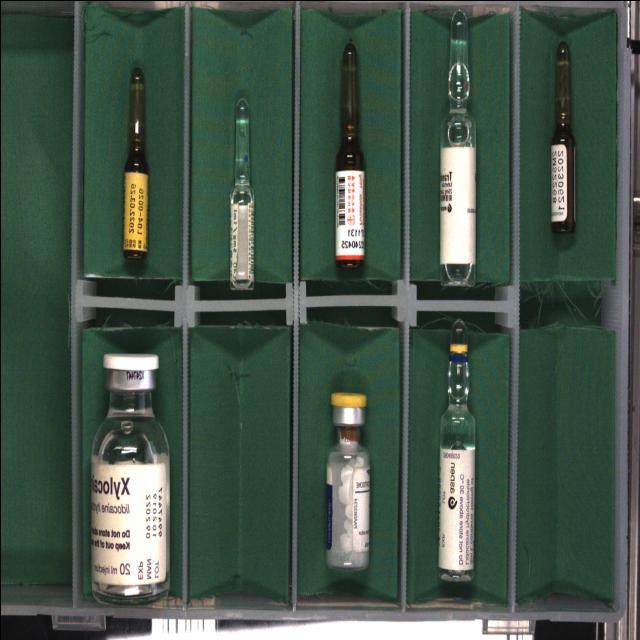Vials: (89, 353, 169, 603), (325, 391, 369, 569)
